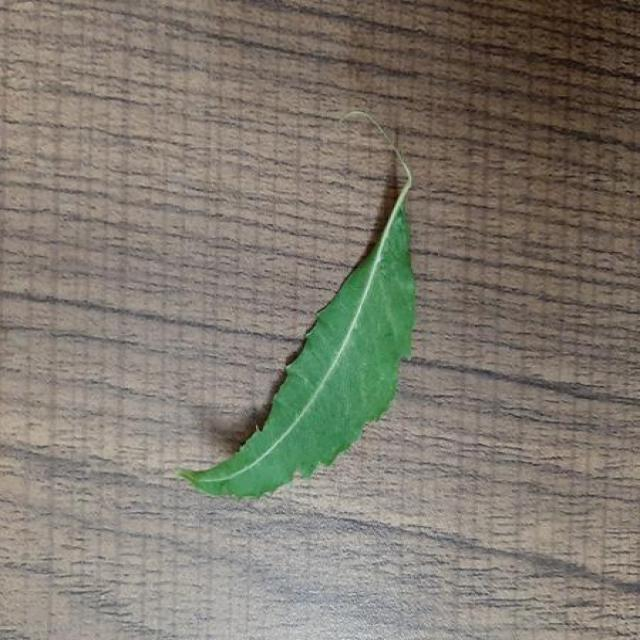neem: (180, 110, 415, 497)
